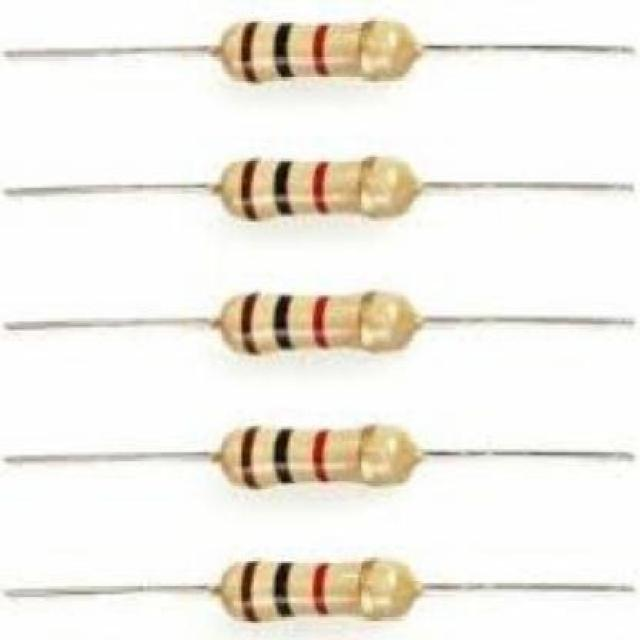Resistor: (5, 558, 632, 621), (125, 425, 634, 488), (97, 157, 558, 222), (97, 292, 558, 355), (166, 14, 491, 83)
